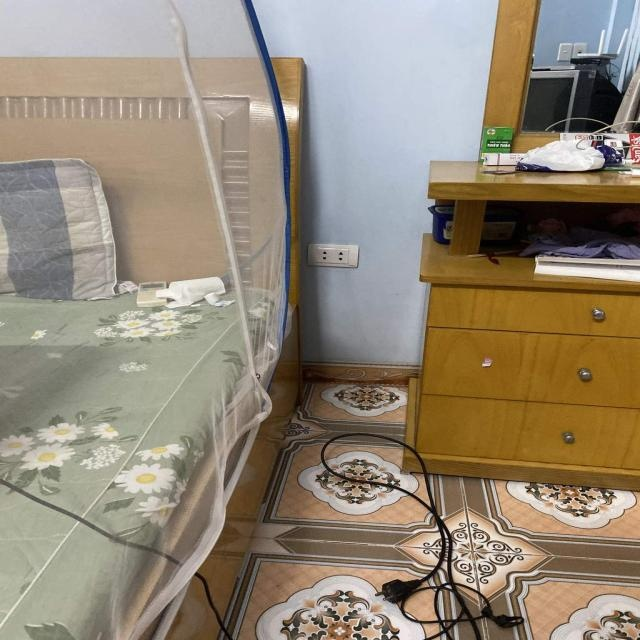outlet: (307, 243, 359, 268)
